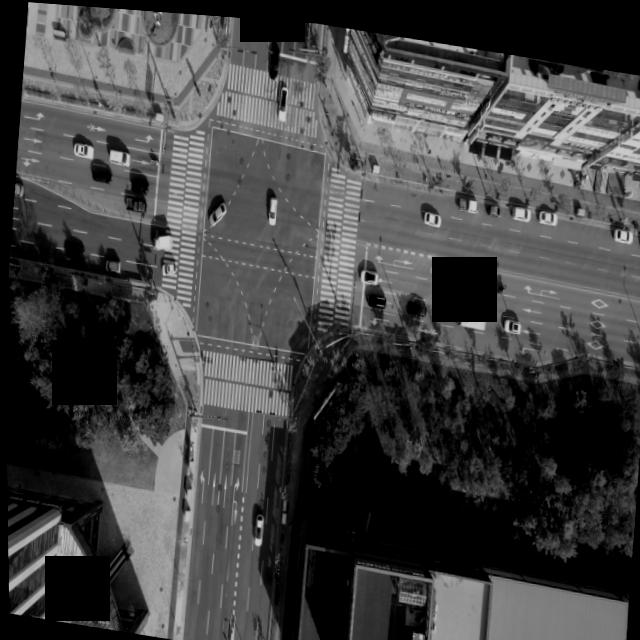car: (206, 195, 226, 226), (275, 78, 286, 116), (106, 146, 128, 164), (535, 199, 557, 217), (508, 195, 529, 213), (251, 507, 262, 541), (72, 141, 93, 158), (610, 218, 629, 235), (421, 203, 440, 220), (404, 295, 423, 312), (363, 288, 382, 304), (64, 244, 84, 259), (266, 190, 276, 220), (268, 42, 278, 72), (90, 166, 109, 181), (126, 174, 145, 189), (501, 311, 518, 326), (159, 258, 174, 274), (358, 264, 375, 278), (103, 258, 119, 272), (483, 195, 498, 208), (433, 302, 448, 315), (12, 180, 20, 198), (638, 225, 640, 240)
small_bus: (455, 304, 484, 324)
small_truck: (455, 188, 477, 208), (123, 194, 145, 213), (150, 230, 169, 249)
